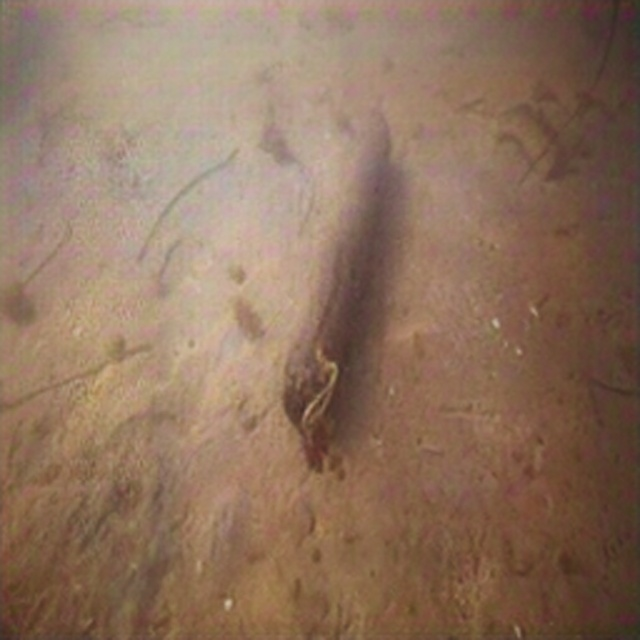mine: (280, 107, 391, 440)
